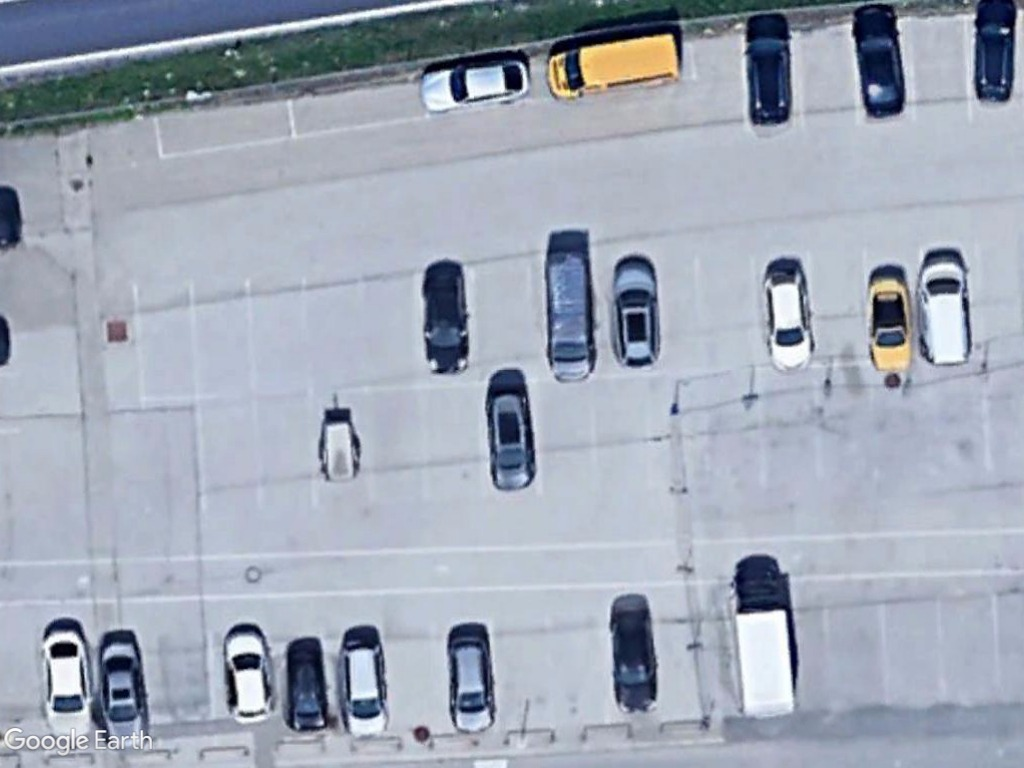car: (849, 4, 912, 123), (915, 256, 974, 371), (39, 623, 95, 743), (418, 58, 531, 116), (607, 257, 665, 370), (605, 603, 661, 717), (482, 385, 539, 494), (336, 633, 394, 740), (758, 268, 817, 373), (419, 264, 474, 375), (743, 9, 793, 129), (98, 634, 150, 747), (222, 625, 277, 725), (447, 630, 499, 734), (865, 271, 914, 376), (285, 643, 333, 733)
van: (542, 27, 683, 102), (539, 247, 601, 386)
